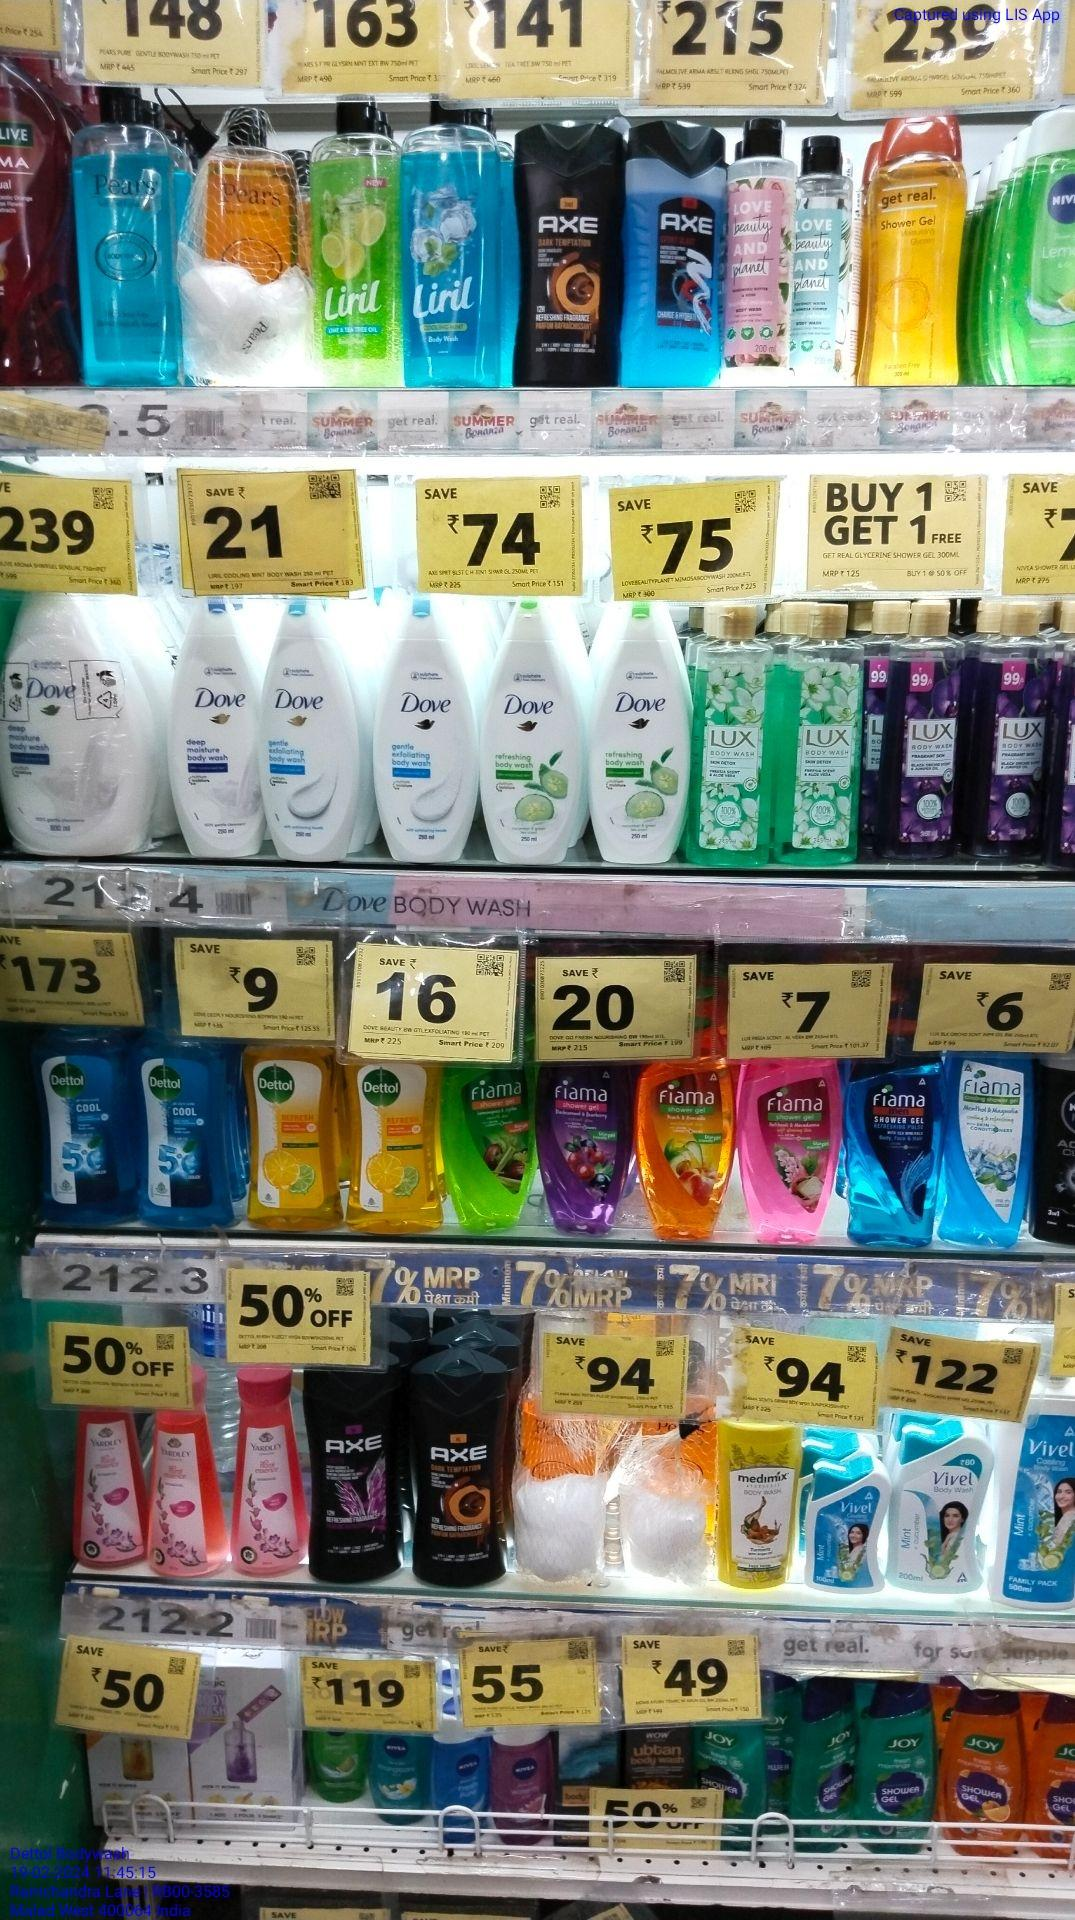Dettol_Bodywash_Cool: (37, 1029, 129, 1225), (136, 1035, 224, 1228)
Dettol_Bodywash_Refresh: (245, 1043, 340, 1236), (343, 1055, 442, 1232)
Dove_Deep_Moisture_Body_Wash_250ML: (169, 612, 259, 858)
Dove_Gentle_Exfoliating_Body_Wash_250ML: (373, 599, 472, 862), (259, 604, 359, 858)
Dove_Refreshing_Body_Wash_250ML: (476, 599, 583, 869), (590, 599, 687, 868)
Fiama_Shower_Gel_Lemongrass_and_Jojoba_250ML: (450, 1055, 534, 1238)
Fiama_Shower_Gel_Patchouli_and_Macadamia_250ML: (733, 1051, 839, 1241)
Fiama_Shower_Gel_Peach_and_Avocado_250ML: (634, 1051, 732, 1238)
Get_Real_Shower_Gel_Moisturising_Glycerin_300ML: (871, 117, 968, 385)
Joy_Shower_Gel_Mandarin_and_Lemongrass_250ML: (940, 1684, 1021, 1855), (1026, 1695, 1075, 1873)
Joy_Shower_Gel_Mint_and_Eucalyptus_250ML: (859, 1667, 933, 1862), (791, 1664, 855, 1854)
Liril_Cooling_Mint_Body_Wash_250ML: (412, 103, 503, 388)
Liril_Lime_and_Tea_Tree_Oil_Body_Wash_250ML: (313, 99, 404, 389)
Lux_Black_Orchid_Scent_and_Juniper_Oil_Body_Wash_245ML: (878, 591, 955, 857), (972, 593, 1045, 862)
Lux_Body_Wash_Skin_Detox_Freesia_Scent_and_Alove_Vera_245ML: (781, 600, 860, 865), (691, 601, 766, 876)
Nivea_Shower_Gel_Frangipani_and_Oil_250ML: (372, 1721, 427, 1818)
Nivea_Shower_Gel_Lemon_and_Oil_250ML: (310, 1725, 363, 1797)
Nivea_Shower_Gel_Waterlily_and_Oil_250ML: (500, 1726, 555, 1846)
